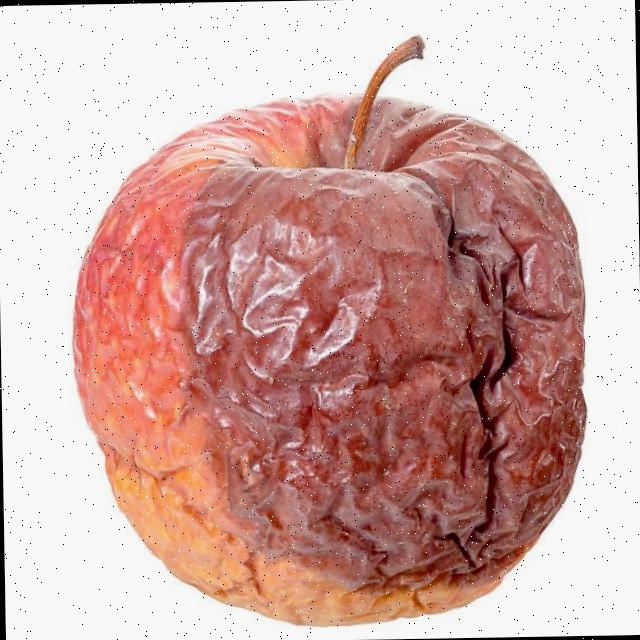rotten apple: (36, 8, 640, 640)
